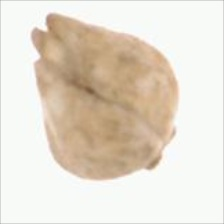L1: (30, 11, 63, 74), (143, 121, 177, 171)
L2: (30, 12, 180, 181)
